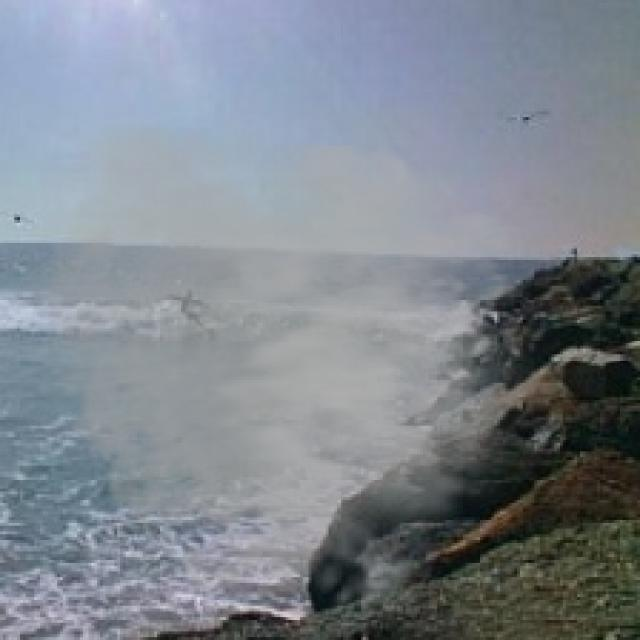smoke: (6, 109, 560, 626)
